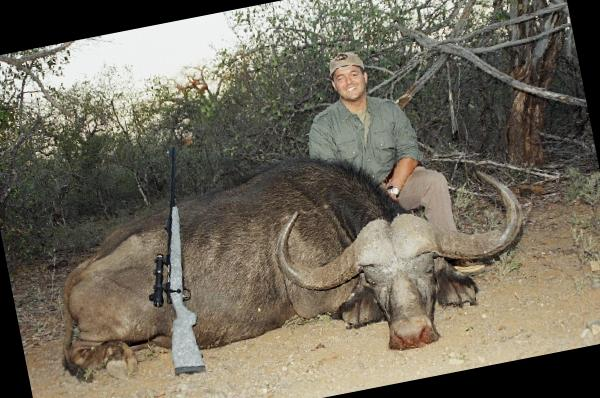Buffalo: (16, 34, 160, 76)
